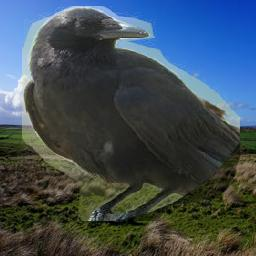Crow: (22, 7, 240, 222)
